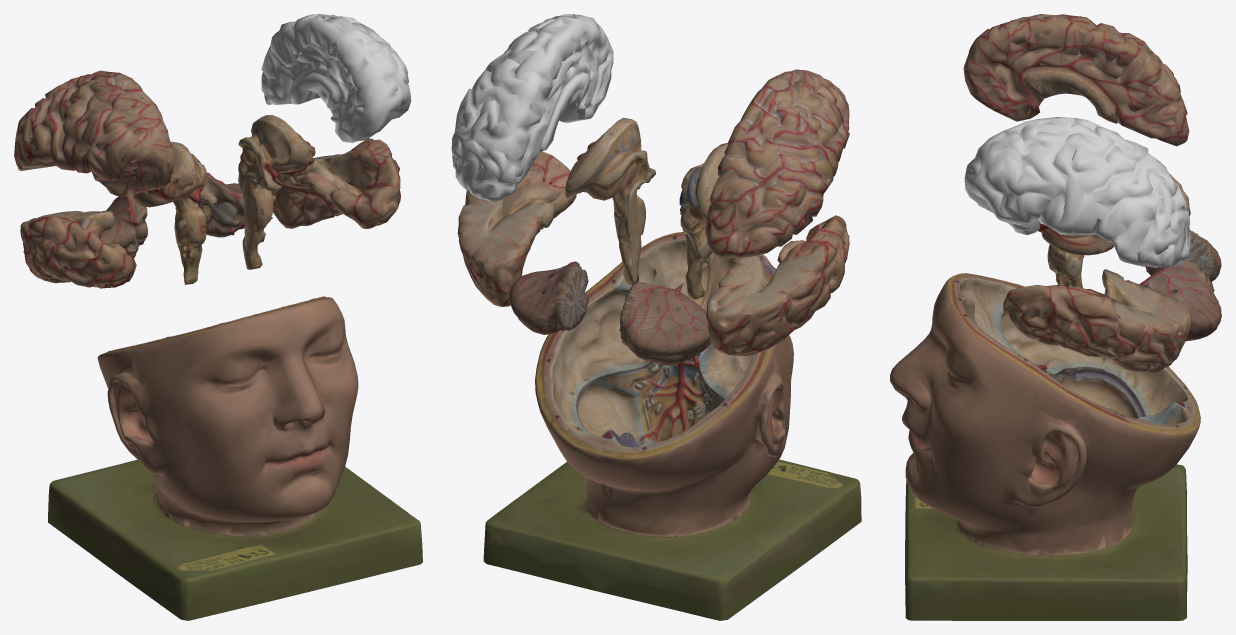
Rendered from 3DBrainExecercice_low.fbx.
The picture shows the model from 3 angles, left to right: view 1: azimuth 30°, elevation 25°; view 2: azimuth 150°, elevation 25°; view 3: azimuth 270°, elevation 25°; orthographic projection.
Visible parts, largest first — view 1: Object_5, Object_23, Object_19, Object_28, Object_31, Object_8, Object_10, Object_13, Object_16; view 2: Object_5, Object_23, Object_19, Object_31, Object_28, Object_8, Object_16, Object_13, Object_10; view 3: Object_5, Object_19, Object_23, Object_28, Object_13, Object_8, Object_16.
Boxes of the visible parts, x1,y1,x2,y2 form: Object_5: (48,296,422,620); Object_23: (14,70,175,196); Object_19: (261,14,411,142); Object_28: (271,138,400,228); Object_31: (20,211,136,288); Object_8: (238,115,315,269); Object_10: (133,141,217,284); Object_13: (197,172,244,237); Object_16: (100,196,147,257); Object_5: (483,232,861,620); Object_23: (705,69,849,258); Object_19: (451,14,613,202); Object_31: (706,215,849,355); Object_28: (457,151,576,306); Object_8: (565,117,655,284); Object_16: (619,281,711,365); Object_13: (509,261,588,334); Object_10: (679,143,728,299); Object_5: (890,273,1200,620); Object_19: (964,117,1192,267); Object_23: (963,14,1189,146); Object_28: (1003,269,1190,373); Object_13: (1139,259,1221,341); Object_8: (1038,223,1113,287); Object_16: (1141,230,1221,281).
Bounding box in the file's own units: 2.66 × 3.48 × 2.12.
